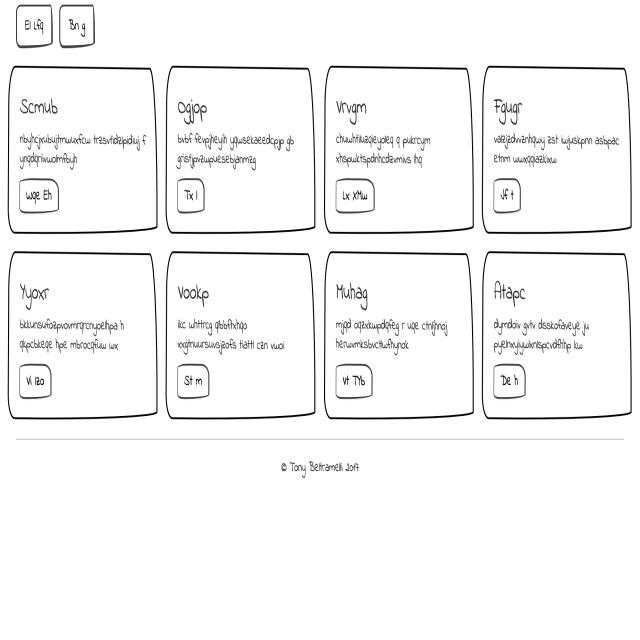Button: (14, 174, 64, 221), (330, 174, 376, 218), (488, 359, 528, 405), (174, 362, 215, 406), (331, 362, 377, 401), (17, 360, 53, 404), (490, 176, 522, 220), (174, 178, 206, 216)
Card: (162, 242, 323, 428), (319, 244, 479, 430), (480, 58, 634, 238), (481, 245, 634, 426), (5, 62, 160, 238), (162, 62, 317, 238), (324, 60, 476, 237), (6, 247, 160, 420)
Footer: (0, 428, 640, 635)
Heading 6: (332, 271, 372, 314), (332, 86, 371, 130), (490, 273, 529, 313), (16, 92, 64, 124), (174, 90, 214, 128), (492, 87, 526, 131), (174, 279, 215, 313), (15, 276, 52, 309)
Navigation Bar: (9, 2, 103, 54)
Paragraph: (14, 126, 150, 172), (329, 314, 454, 360), (172, 132, 301, 174), (170, 317, 290, 362), (488, 132, 623, 170), (15, 316, 130, 358), (490, 314, 596, 358), (332, 130, 433, 171)
